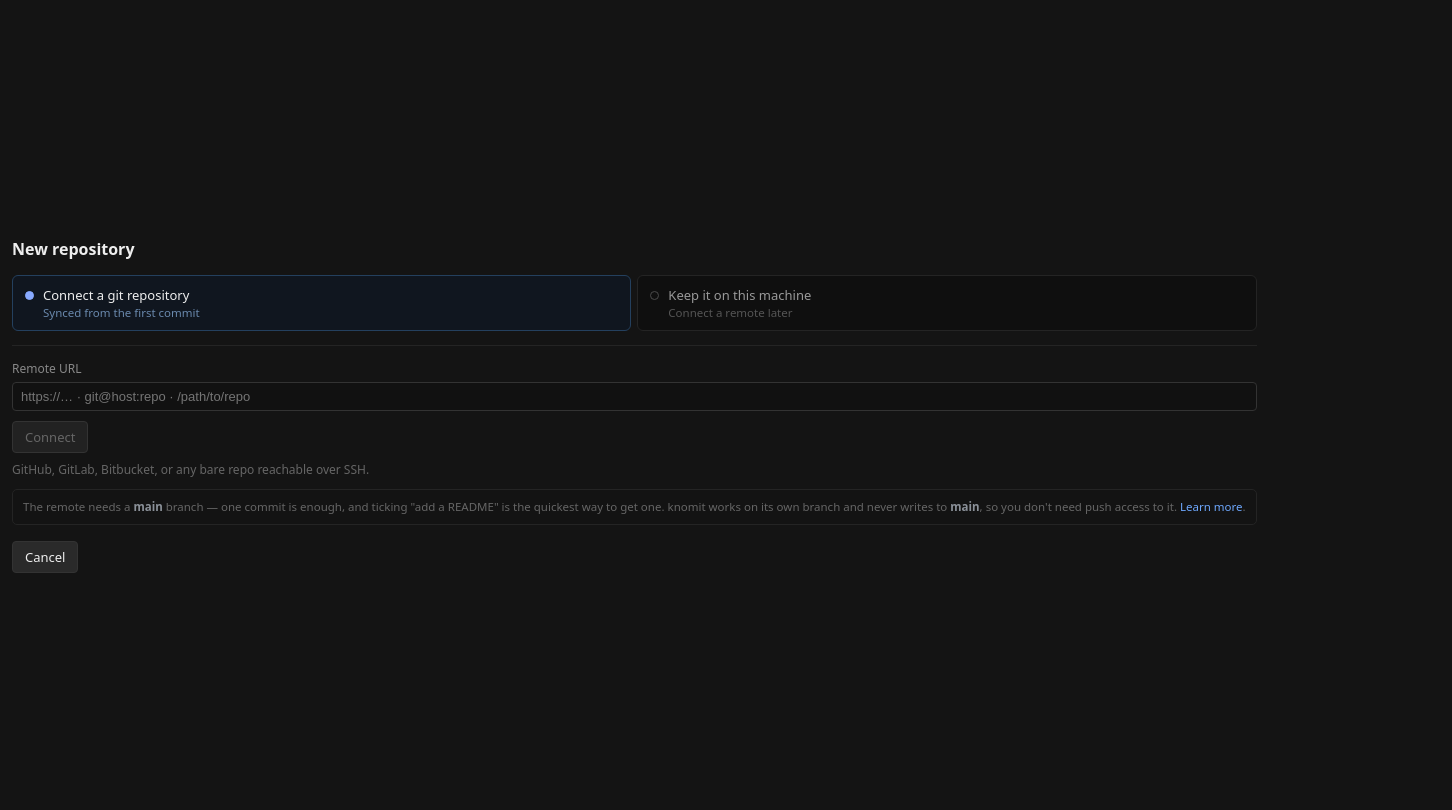
the wizard against a fake git host › every reachable outcome reports itself › needing credentials is asked, not reported as a failure
The width and height of the screenshot is (1452, 810).
Step 1. Type "git@h:org/private.git" into the field with test id "create-url" → (634, 397), box left=12, top=382, right=1257, bottom=411
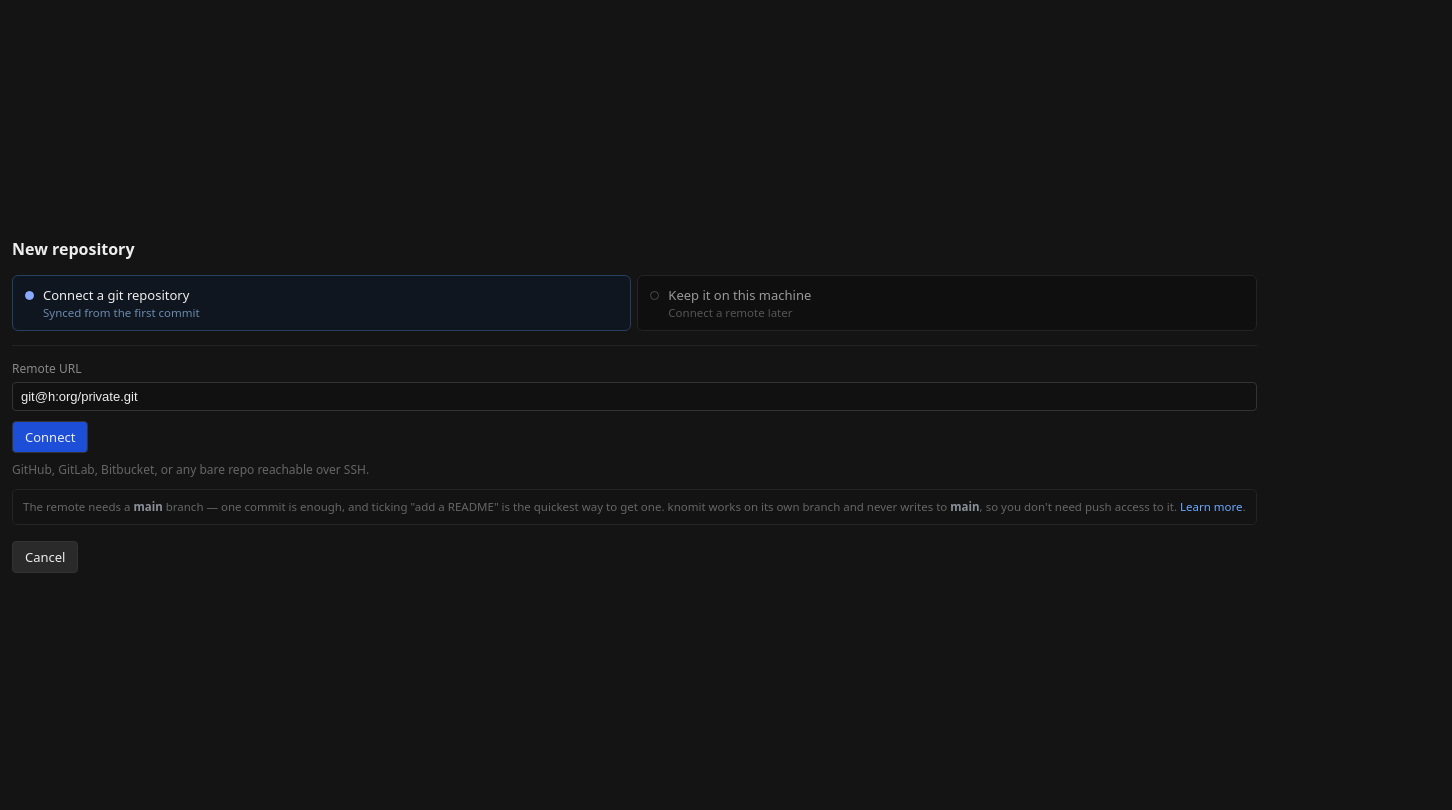
Step 2. Click the button with test id "probe-button" → (50, 437), box left=12, top=421, right=88, bottom=453
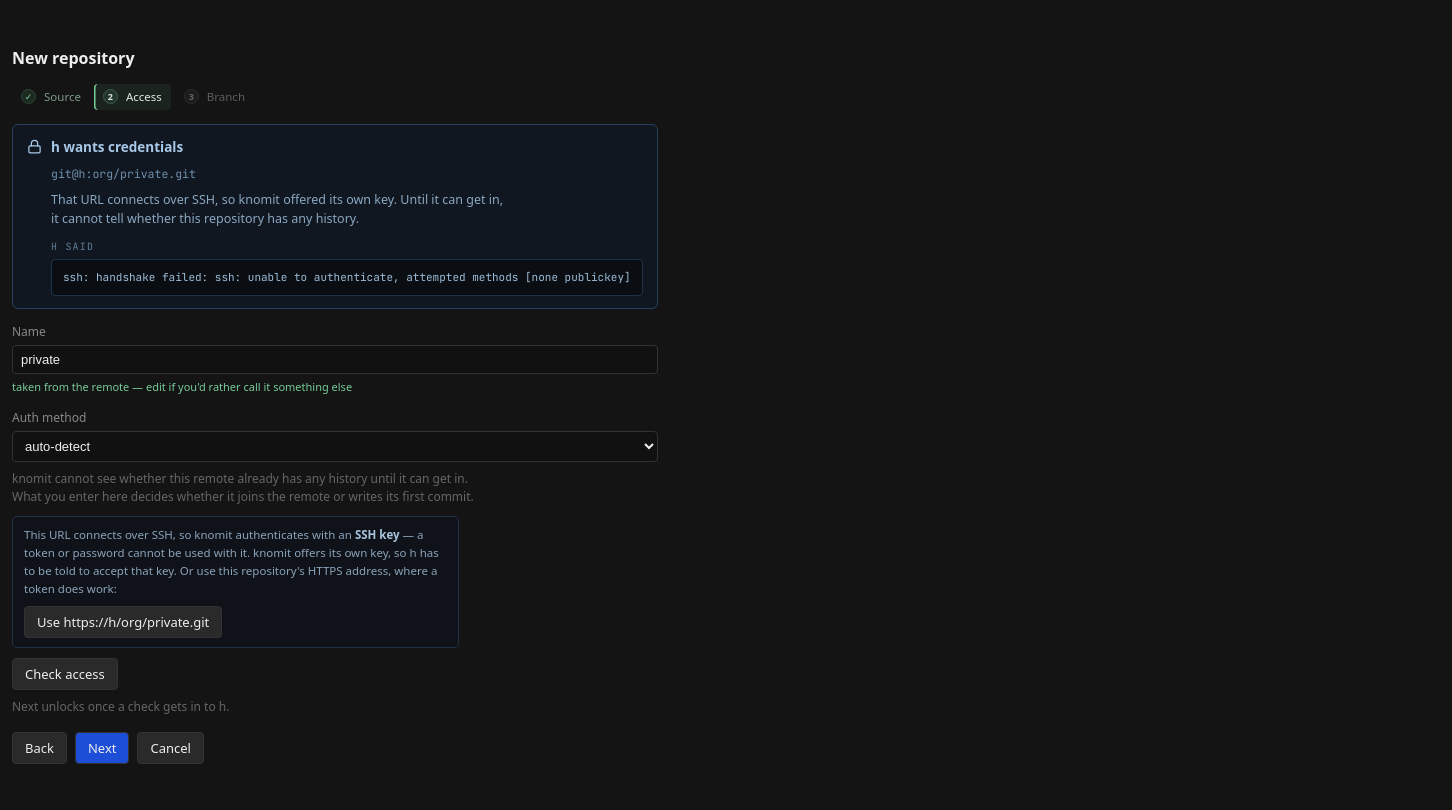
Expected: the element with test id "step-access" is shown, left=12, top=124, right=658, bottom=716
Expected: the text with test id "outcome-detail" shows "unable to authenticate", left=63, top=270, right=631, bottom=284
